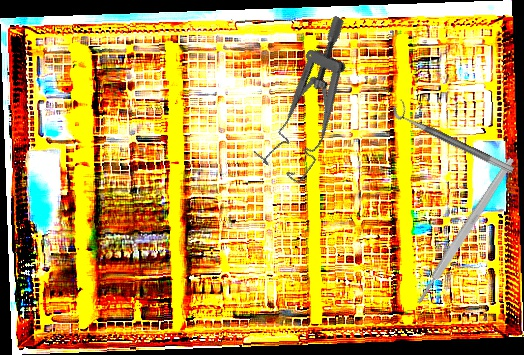Fixation Ring: (389, 97, 520, 175)
Scalpel Handle: (413, 156, 517, 306)
Speculum: (241, 14, 391, 187)
